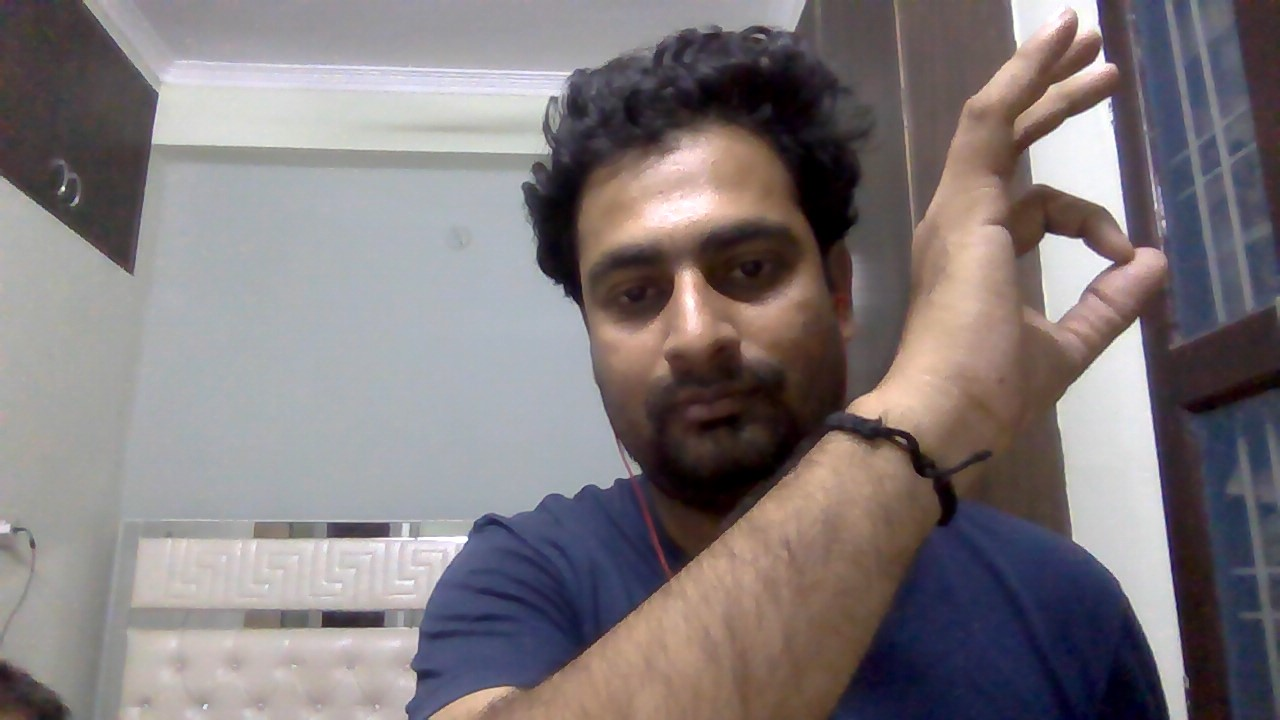Copy: (892, 6, 1179, 453)
